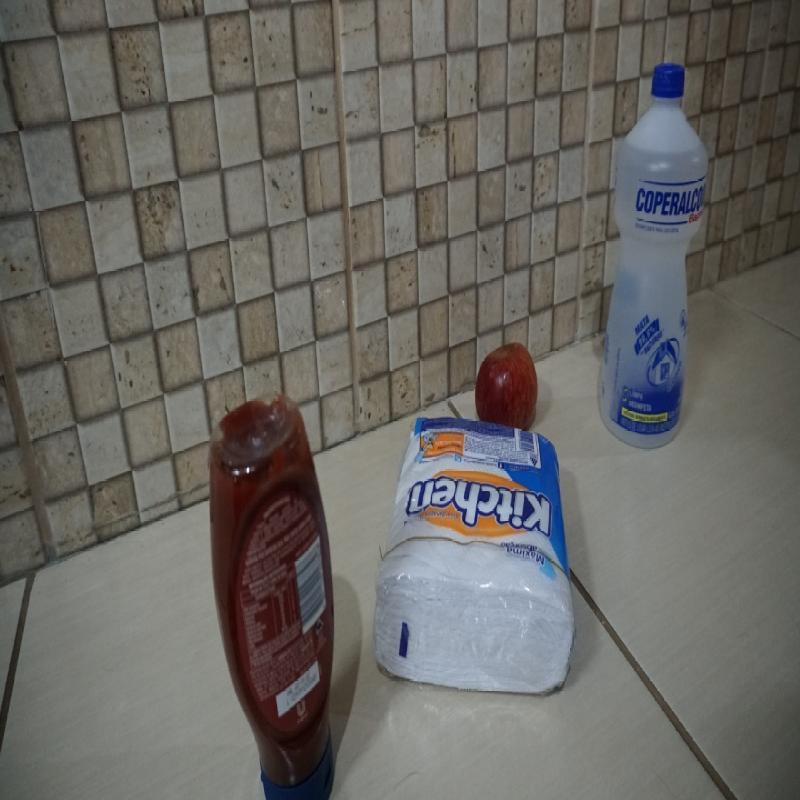Alcohol Bottle: (597, 63, 709, 450)
Apple: (476, 341, 540, 433)
Ketchup: (207, 394, 340, 800)
Napkin: (373, 415, 576, 696)
